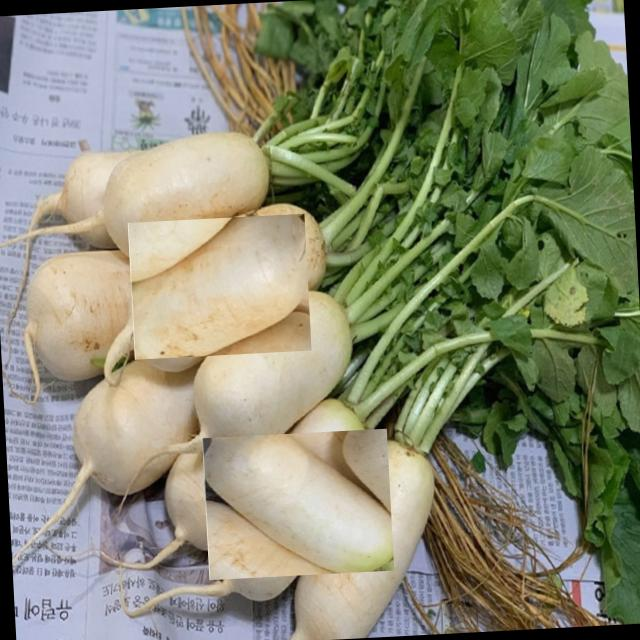radish: (212, 419, 384, 591), (128, 212, 312, 360)
